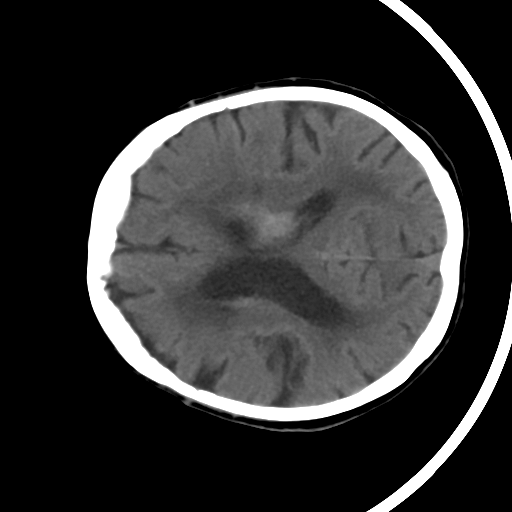a: (234, 192, 313, 259)
